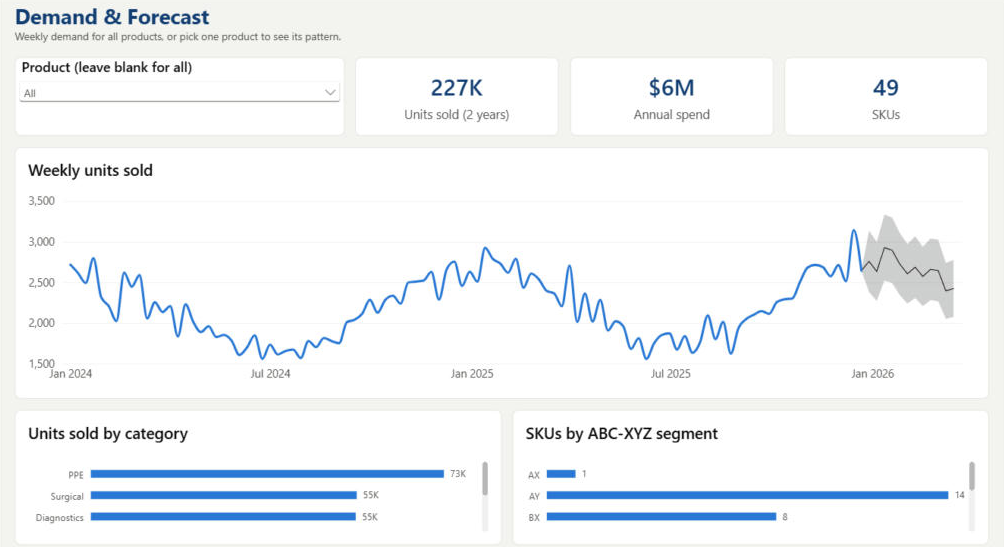

This screenshot's page, from the dashboard's own definition file:
{"tool":"powerbi","page":{"name":"Demand & Forecast","canvas":[1280,720],"ordinal":3},"visuals":[{"type":"textbox","box":[20,8,1240,64],"z":31000},{"type":"slicer","fields":{"Values":["products.product_name"]},"box":[20,80,420,100],"z":32000},{"type":"card","fields":{"Values":["_Measures.Units Sold"]},"box":[454,80,259,100],"z":33000},{"type":"card","fields":{"Values":["_Measures.Annual Spend Total"]},"box":[727,80,259,100],"z":34000},{"type":"card","fields":{"Values":["_Measures.SKU Count"]},"box":[1000,80,259,100],"z":35000},{"type":"lineChart","title":"Weekly units sold","fields":{"Category":["Dates.Date"],"Y":["_Measures.Units Sold"]},"box":[20,194,1240,320],"z":36000},{"type":"clusteredBarChart","title":"Units sold by category","fields":{"Category":["products.category"],"Y":["_Measures.Units Sold"]},"box":[20,528,620,172],"z":37000},{"type":"clusteredBarChart","title":"SKUs by ABC-XYZ segment","fields":{"Category":["products.Segment"],"Y":["_Measures.SKU Count"]},"box":[654,528,606,172],"z":38000}]}

Visuals, with their boxes on the page's 1280x720 design canvas (x1, y1, x2, y2). These are canvas units, not pixel positions in the 1004x547 screenshot, which may show the page scaled, cropped or inside an application window:
textbox: (20,8,1260,72)
slicer - products.product_name: (20,80,440,180)
card - _Measures.Units Sold: (454,80,713,180)
card - _Measures.Annual Spend Total: (727,80,986,180)
card - _Measures.SKU Count: (1000,80,1259,180)
"Weekly units sold" lineChart: (20,194,1260,514)
"Units sold by category" clusteredBarChart: (20,528,640,700)
"SKUs by ABC-XYZ segment" clusteredBarChart: (654,528,1260,700)
